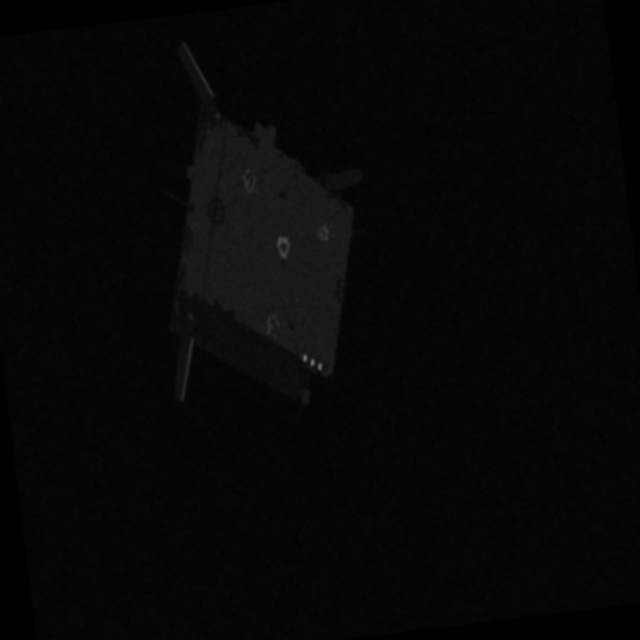satellite: (118, 23, 405, 436)
